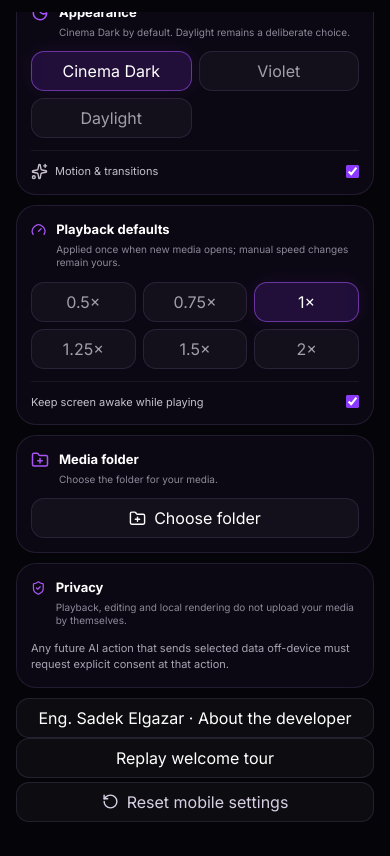
Test: Mobile reset is explicit and scoped (directive §16.3) › the first tap only arms the confirmation; nothing is written yet
What coordinates should you click on to do the following:
click the button "Reset mobile settings"
I would click on:
 (195, 802)
Its box is [16,782,374,822].
(page scrolled)
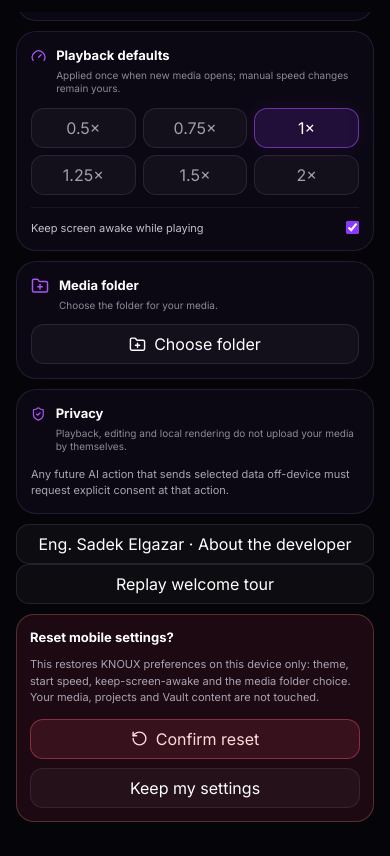
Check: the element named "Confirm mobile settings reset" is shown, box [16,614,374,822]
Check: the element named "Confirm mobile settings reset" shows "Reset mobile settings?", box [30,629,174,645]
Check: the element named "Confirm mobile settings reset" shows "Your media, projects and Vault content are not touched.", box [30,657,351,704]
